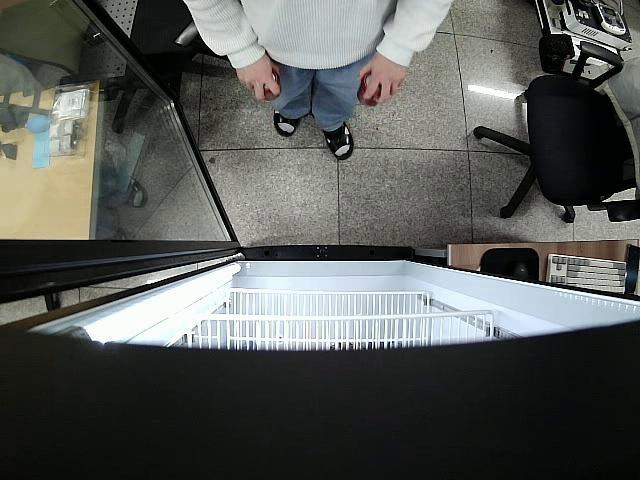11_cocaColaZero: (356, 74, 382, 106), (263, 70, 282, 101)
